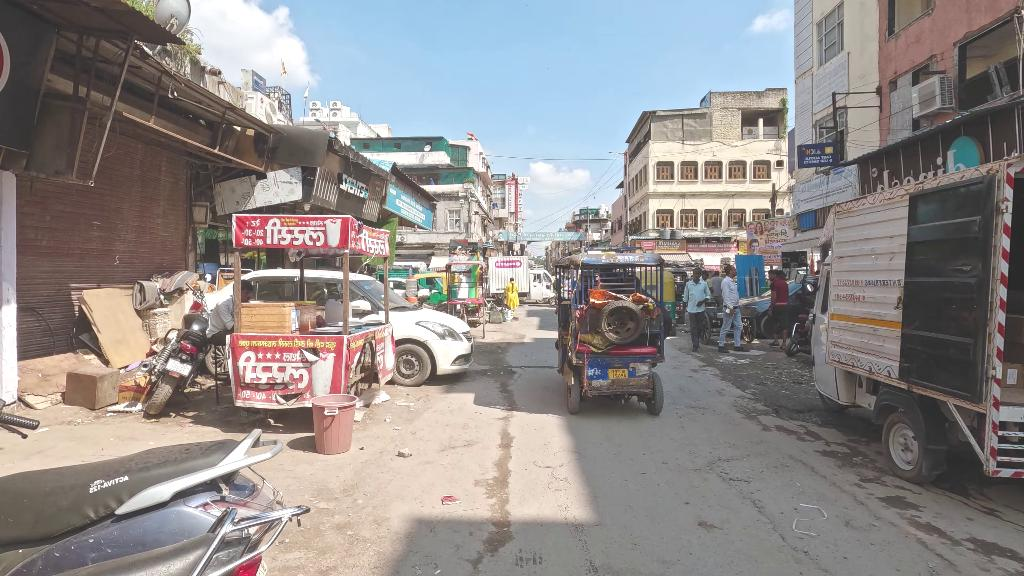dustbin: (312, 392, 356, 455)
